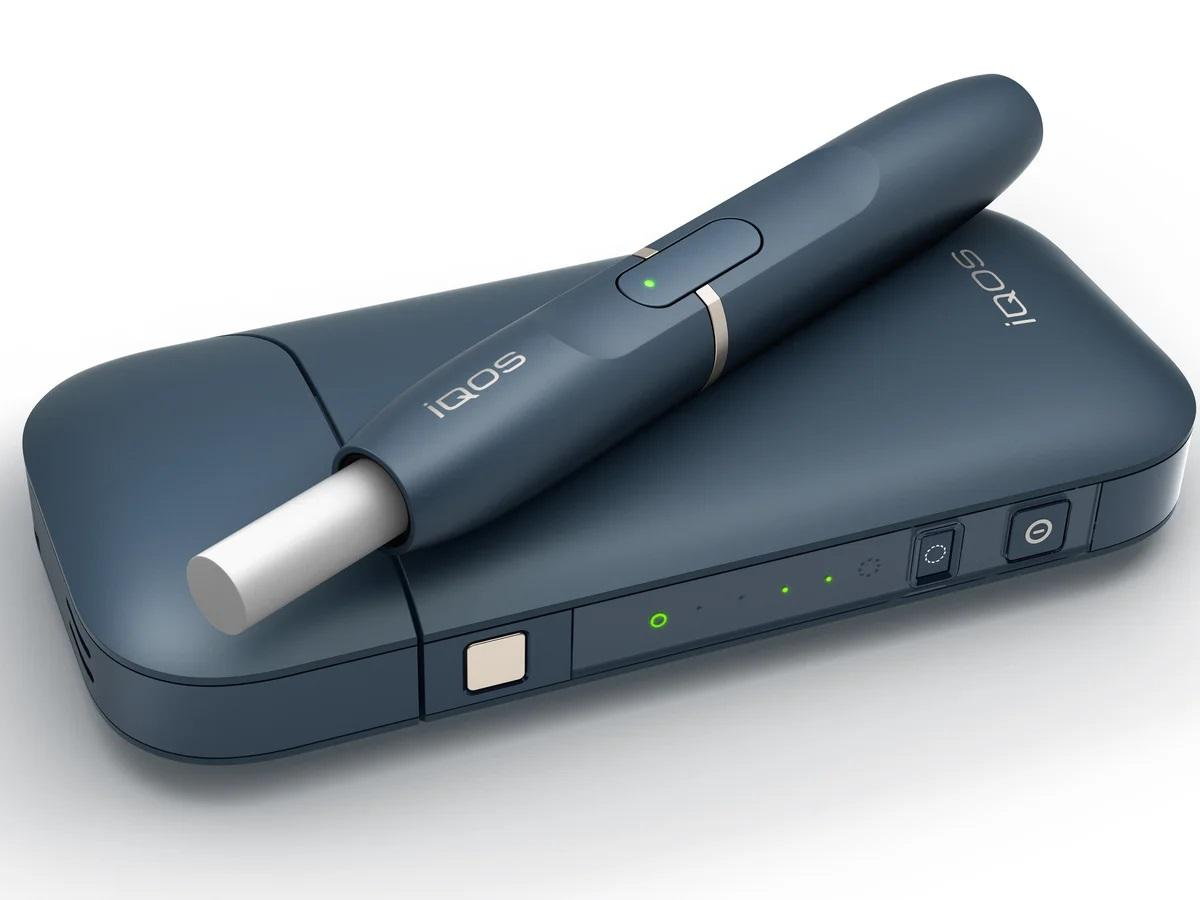iqos: (187, 77, 1038, 635)
